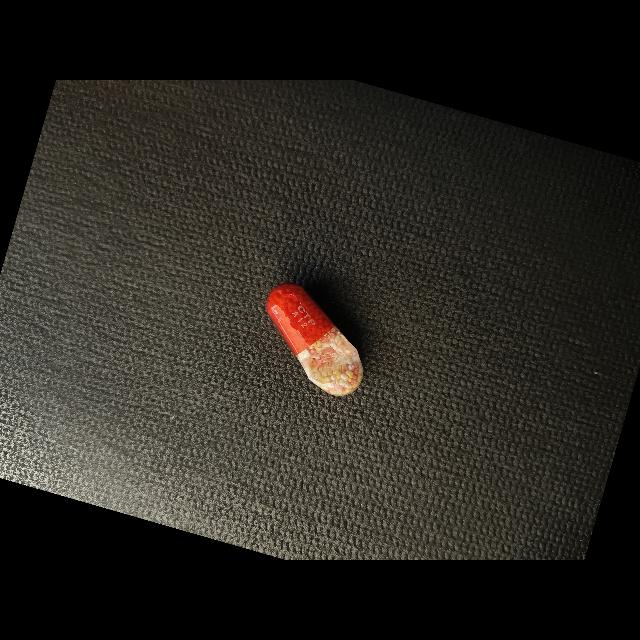Defective Capsule: (267, 283, 363, 396)
